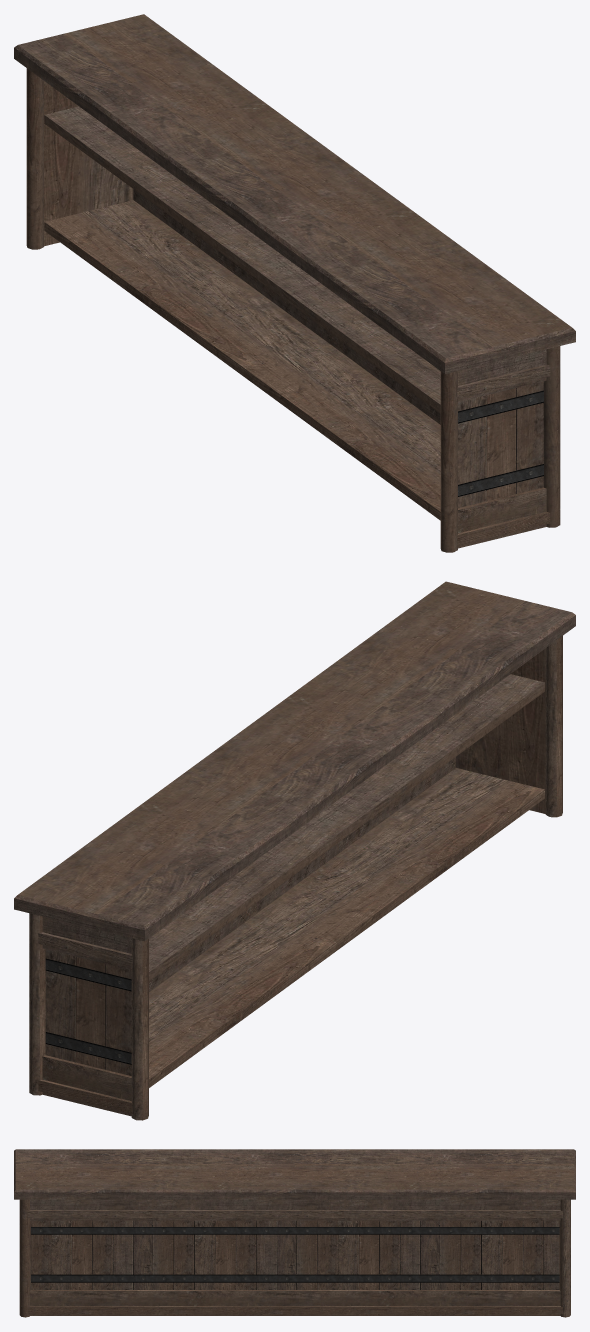
File: mw_bar_01_01.FBX
3 renders of one model, top to bottom at view 1: azimuth 30°, elevation 25°; view 2: azimuth 150°, elevation 25°; view 3: azimuth 270°, elevation 25°, orthographic. The views are drawn at different scales.
Parts seen in each view (by area): view 1: mw_bar_01_01; view 2: mw_bar_01_01; view 3: mw_bar_01_01.
Part boxes in pixels (x1,y1,x2,y2): mw_bar_01_01: [14, 14, 575, 552]; mw_bar_01_01: [14, 581, 575, 1120]; mw_bar_01_01: [14, 1149, 575, 1317].
Bounding box in the file's own units: 84.02 × 122 × 478.
